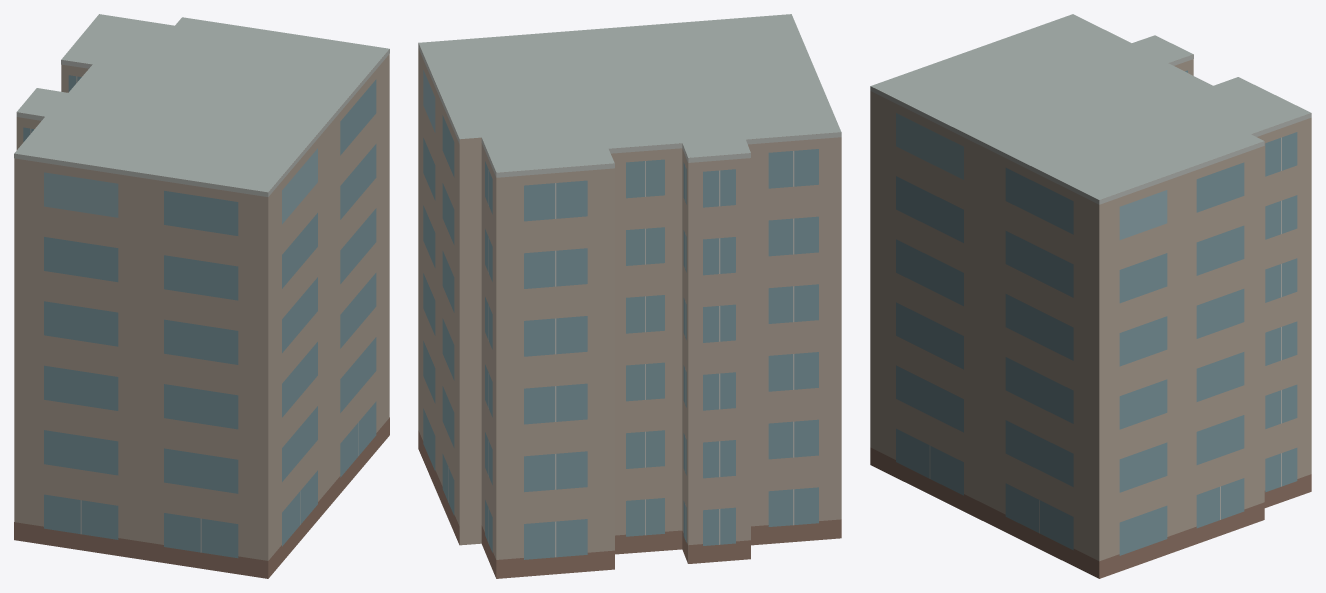
Rendered from survey-upis-32540401.glb.
3 views of the same model, side by side, from view 1: azimuth 30°, elevation 25°; view 2: azimuth 150°, elevation 25°; view 3: azimuth 270°, elevation 25° (orthographic). The views are drawn at different scales.
Visible parts, largest first — view 1: survey-upis-32540401.tmp; view 2: survey-upis-32540401.tmp; view 3: survey-upis-32540401.tmp.
Boxes of the visible parts, <box> form: survey-upis-32540401.tmp: <box>14,14,389,578</box>; survey-upis-32540401.tmp: <box>418,14,841,578</box>; survey-upis-32540401.tmp: <box>870,14,1311,578</box>.
Size of the model in its own units: 20.66 by 19.6 by 20.69.
